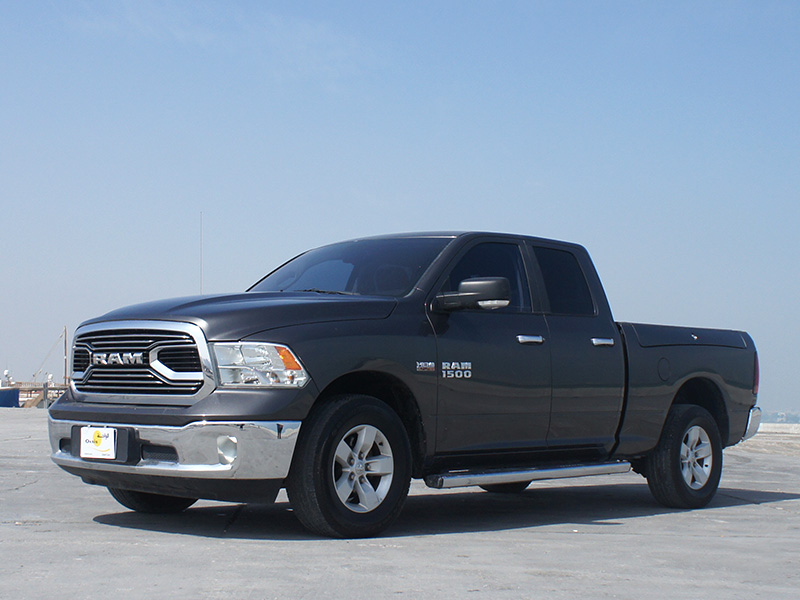other: (47, 235, 755, 543)
